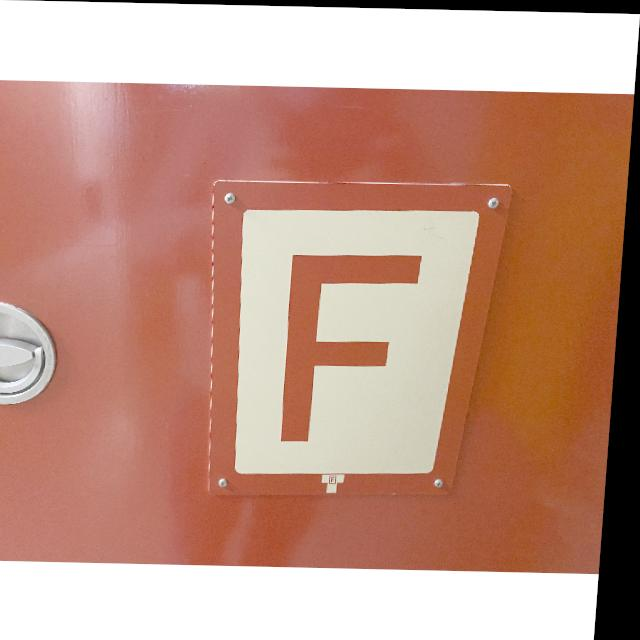fire extinguisher: (197, 177, 514, 500)
